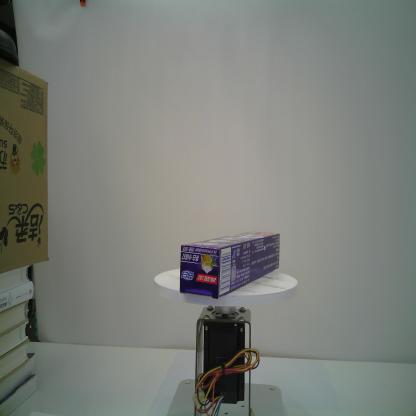Personal Hygiene: (178, 230, 281, 301)
